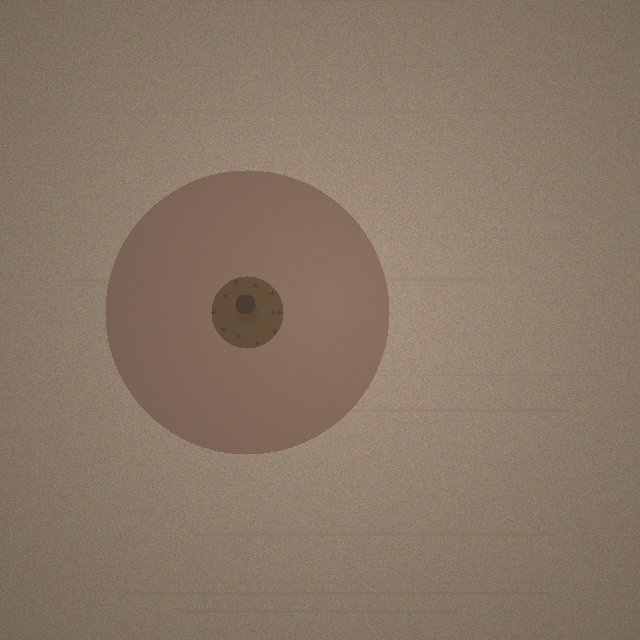cold_weld: (105, 170, 389, 454)
